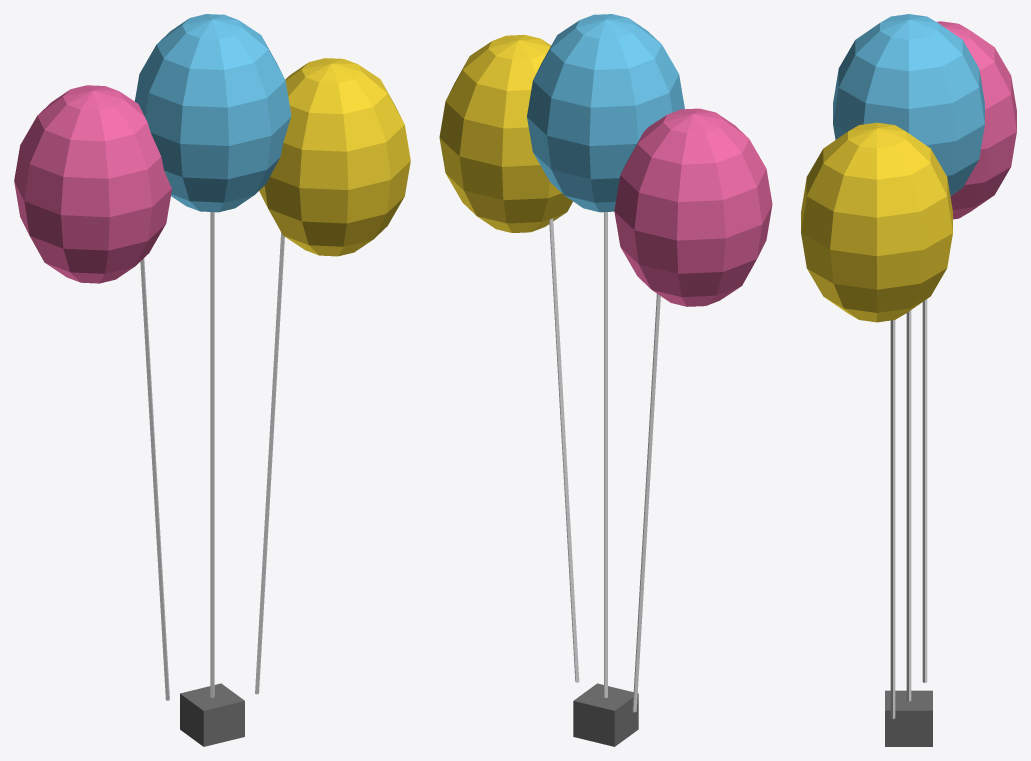
The model's file is gas_balloons.glb.
3 views of the same model, side by side, from view 1: azimuth 30°, elevation 25°; view 2: azimuth 150°, elevation 25°; view 3: azimuth 270°, elevation 25° (orthographic).
Parts seen in each view (by area): view 1: balloons, strings_balloon_string (×3), weight_weight_grey; view 2: balloons, strings_balloon_string (×3), weight_weight_grey; view 3: balloons, strings_balloon_string (×3), weight_weight_grey.
Part boxes in pixels (<box>): balloons: <box>14,14,410,283</box>; strings_balloon_string (×3): <box>140,212,284,700</box>; weight_weight_grey: <box>180,683,244,746</box>; balloons: <box>439,14,772,306</box>; strings_balloon_string (×3): <box>549,212,660,712</box>; weight_weight_grey: <box>573,683,638,746</box>; balloons: <box>801,14,1016,322</box>; strings_balloon_string (×3): <box>890,299,927,718</box>; weight_weight_grey: <box>885,690,932,746</box>.
Size of the model in its own units: 0.5 by 0.99 by 0.2702.
